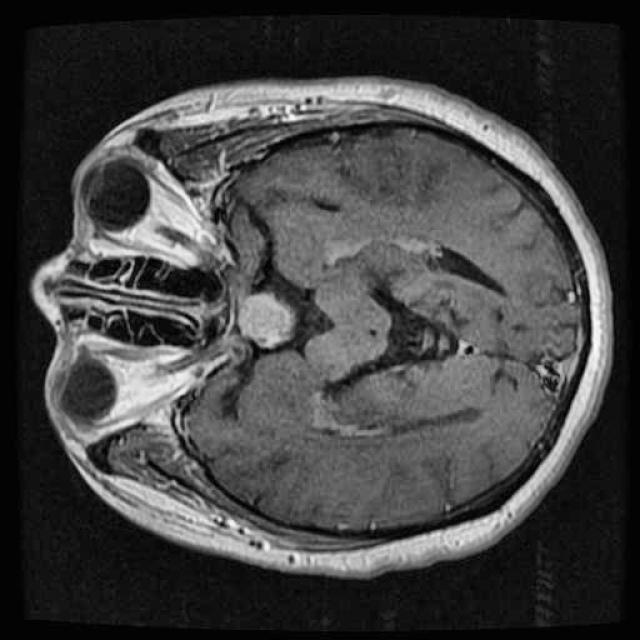Tumor: (221, 276, 308, 358)
